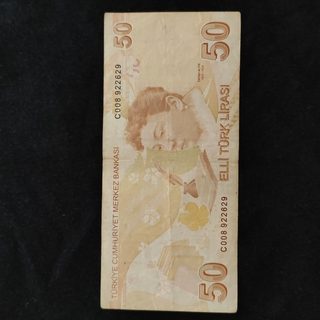50TLBack: (99, 11, 241, 313)
